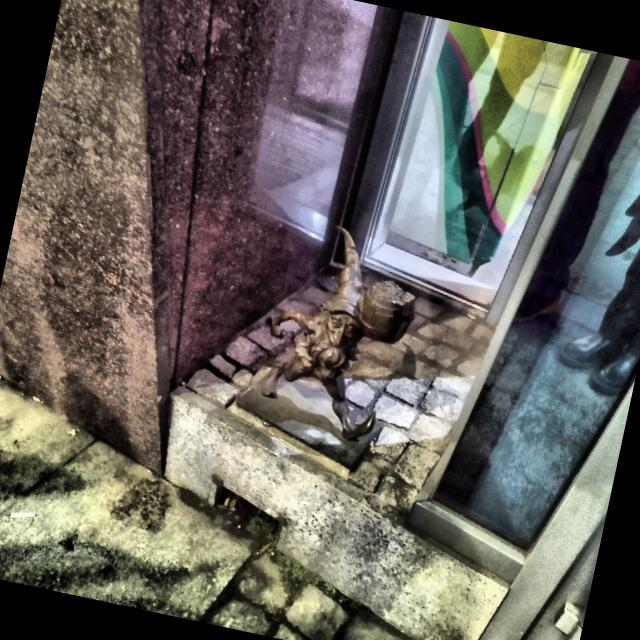Leprykonus: (214, 190, 448, 476)
